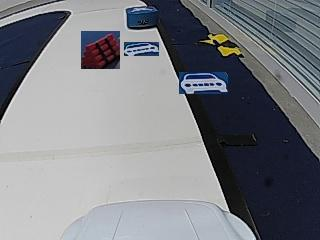prop: (127, 6, 159, 30)
